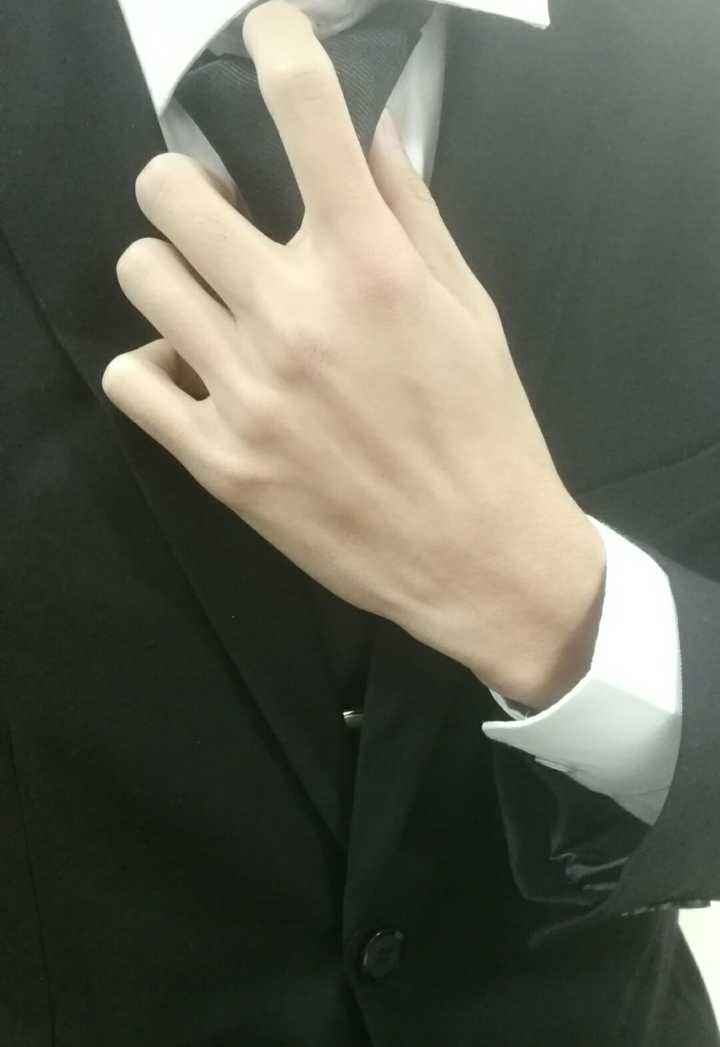no-phone: (81, 2, 579, 678)
